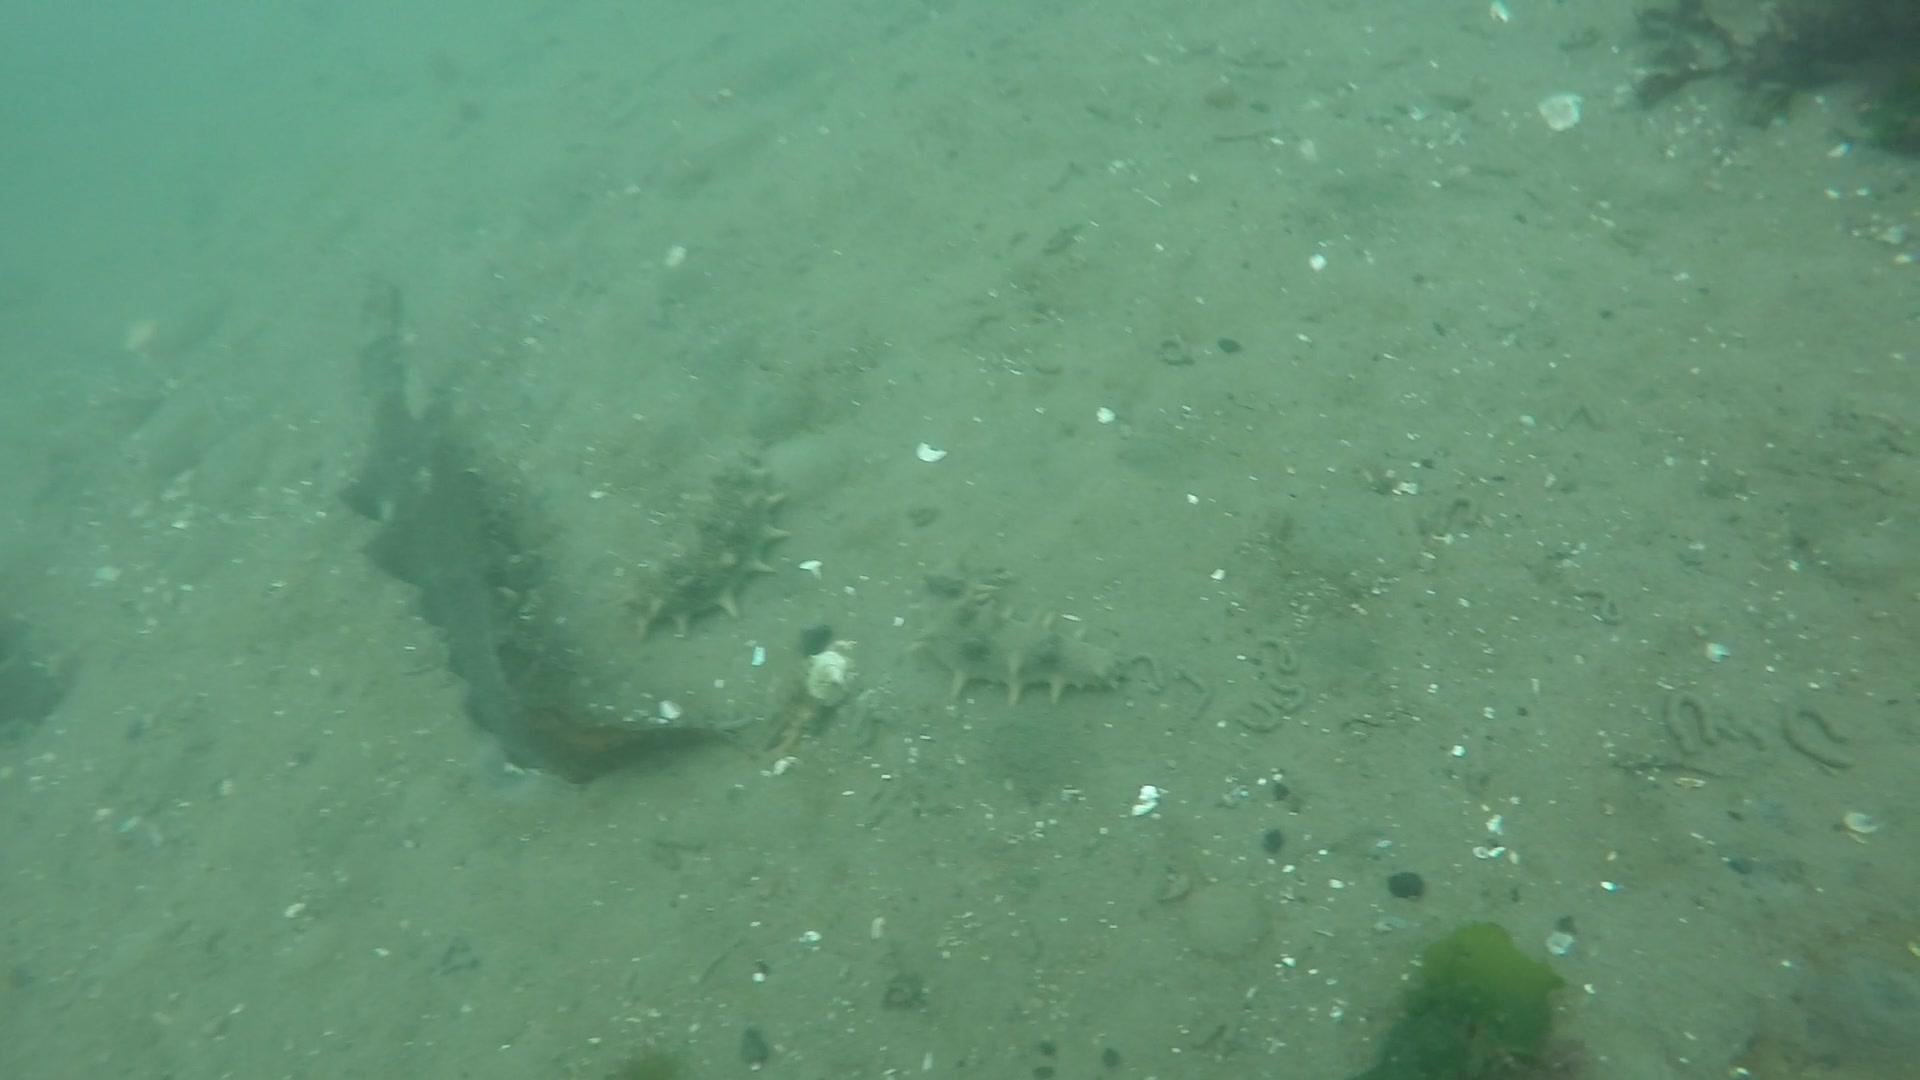holothurian: (612, 455, 799, 644), (905, 556, 1129, 713)
